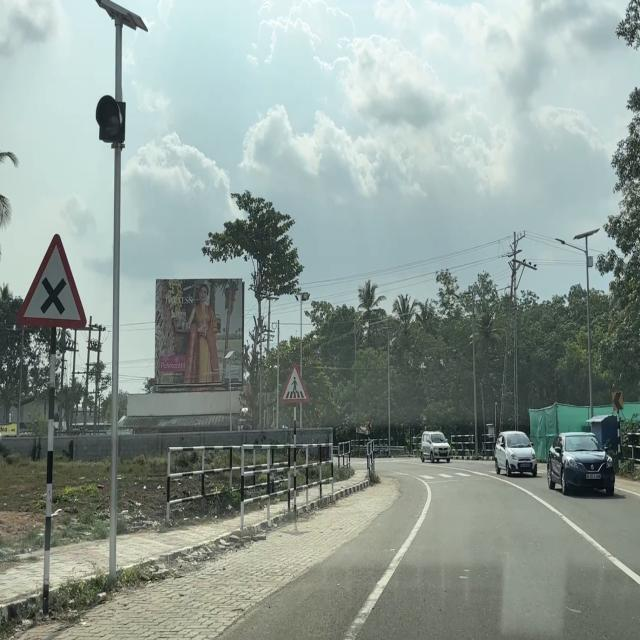CROSS_ROAD: (13, 231, 90, 335)
PEDESTRIAN_CROSSING: (279, 359, 311, 405)
TURN_LEFT: (612, 392, 623, 410), (367, 420, 372, 430)
